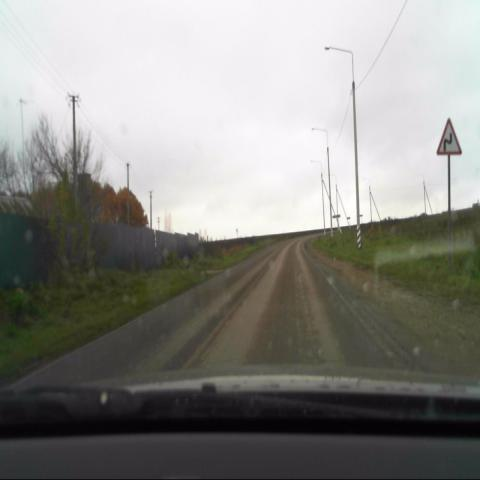1_12: (436, 117, 462, 155)
